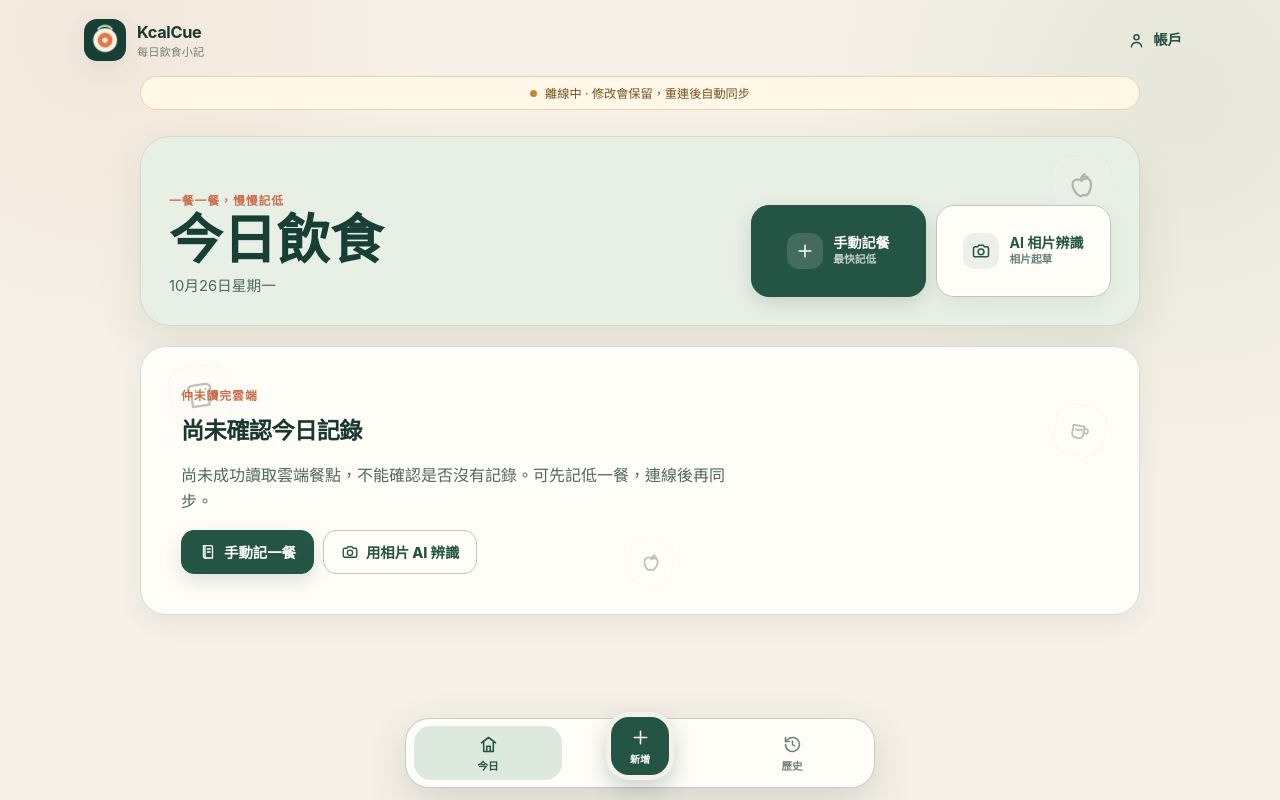
does not present an unverified first cloud load as zero meals or empty history
This screenshot has width=1280, height=800.
Expected: the heading "尚未確認今日記錄" is shown, x1=181 y1=416 x2=362 y2=444
Click the button "歷史": click(792, 753) x1=718 y1=726 x2=866 y2=780
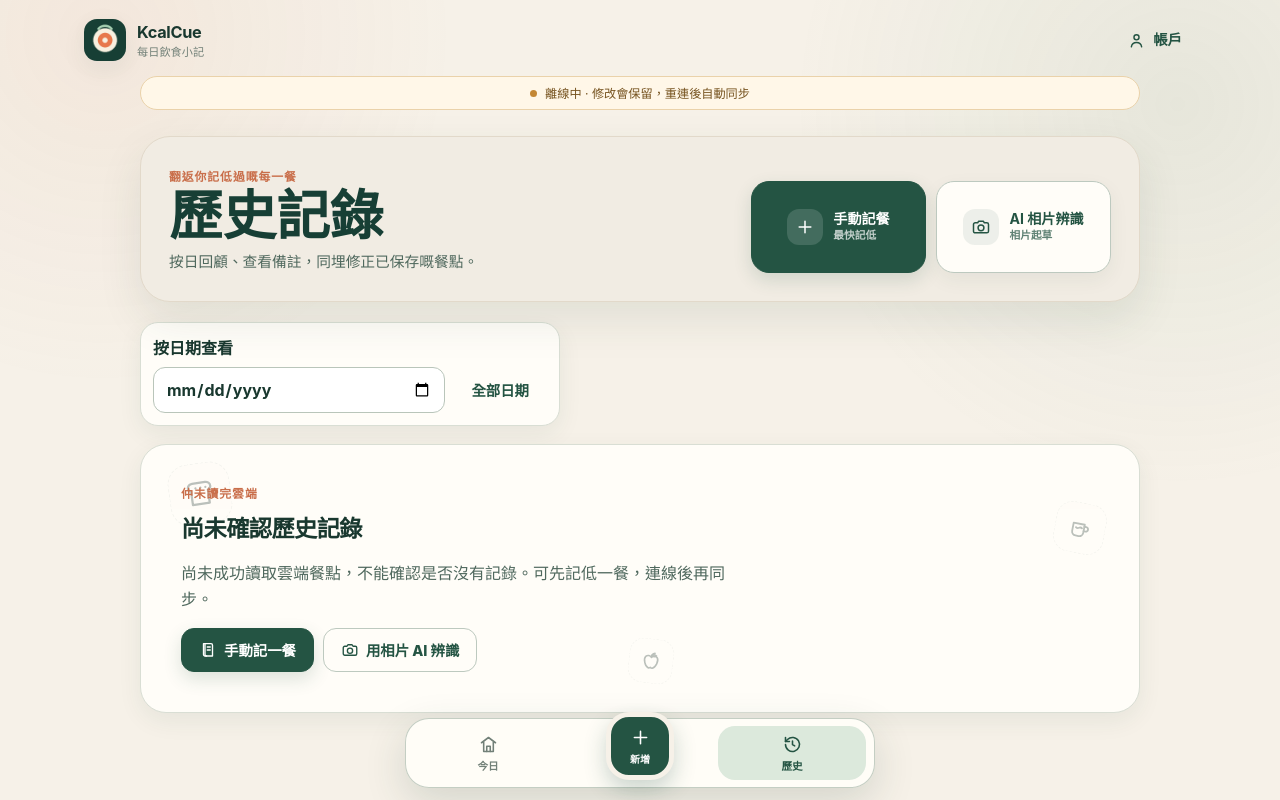
Now the heading "尚未確認歷史記錄" is shown, box x1=181 y1=514 x2=362 y2=542
